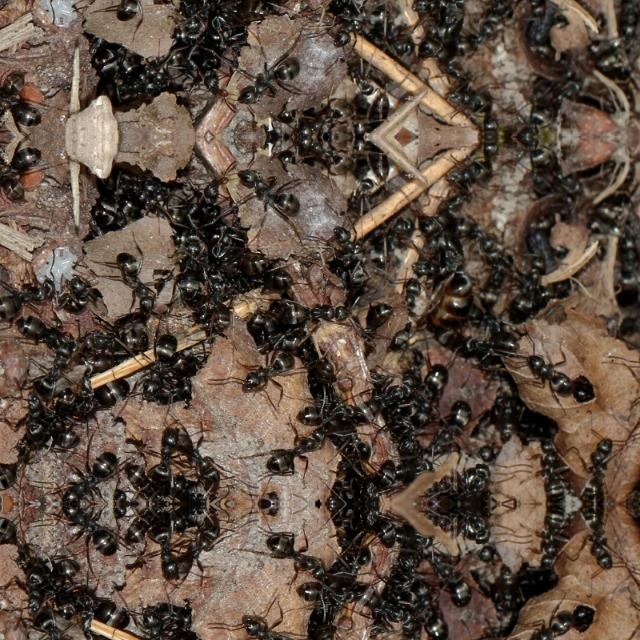Formica: (411, 201, 479, 335), (224, 150, 316, 228), (224, 44, 316, 122), (411, 0, 479, 70), (276, 284, 364, 336), (111, 247, 170, 316), (231, 350, 309, 402), (515, 342, 583, 398), (574, 431, 630, 497), (574, 509, 630, 575), (408, 360, 458, 430), (506, 245, 556, 315), (54, 448, 118, 502), (54, 504, 118, 558), (408, 574, 458, 640), (78, 323, 154, 363), (140, 324, 174, 410), (0, 138, 56, 190), (0, 80, 56, 132), (231, 604, 309, 640), (424, 392, 474, 448), (424, 558, 474, 614), (18, 308, 78, 352), (527, 437, 569, 499), (527, 507, 569, 569), (33, 346, 79, 399), (515, 608, 583, 640), (329, 214, 366, 264), (329, 8, 366, 58), (138, 596, 174, 640), (33, 606, 79, 640), (110, 0, 168, 24), (504, 0, 554, 26)
